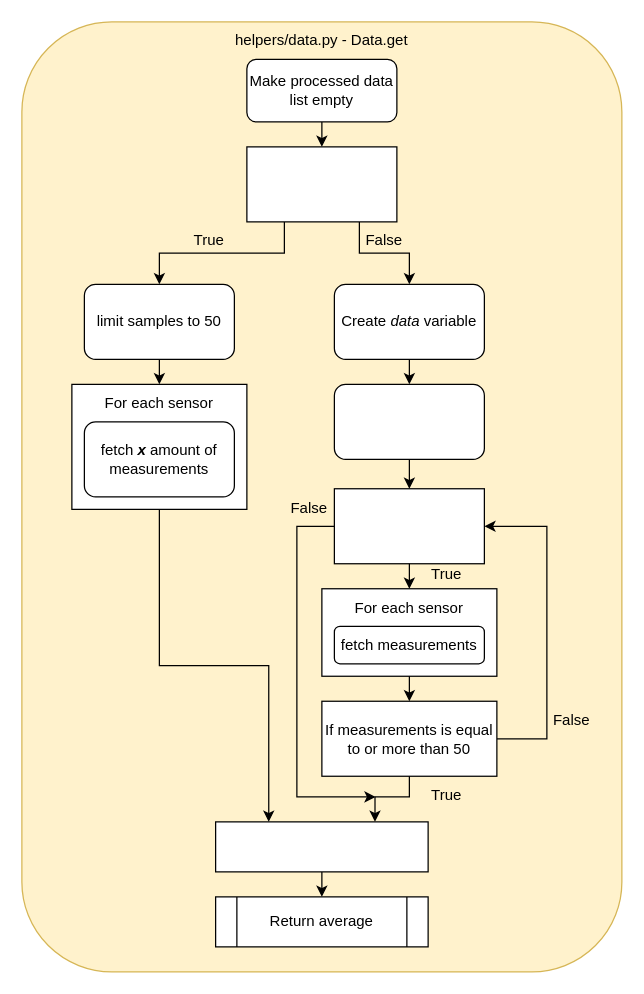
The diagram is 644 pixels wide and 994 high, and some of its shapes have lost their labels. The shapes that lost their labels are listed below. From the top down, each one's centre as x and y in pixels, then its label:
At point 321,184: "if variable 'samples' is an integer".
At point 408,421: "Get current time in nanoseconds".
At point 408,526: "While time elapsed is not more than period time".
At point 321,846: "Get average of measurements".
